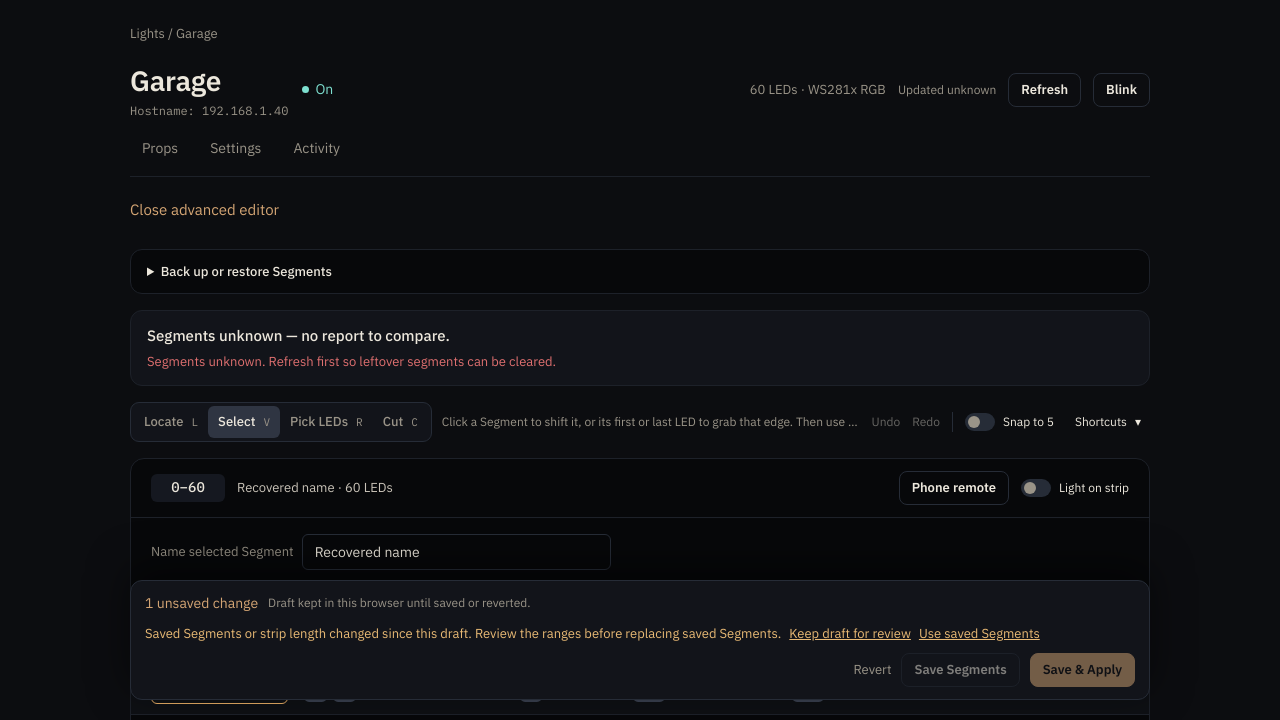
Scenario: reload-safe Segment drafts › shows a stale draft without letting Save or Apply write before review
Expected: the text "Saved Segments or strip length changed since this draft" is shown, [145,624,781,642]
Expected: the button "Save Segments" is disabled, [902,653,1020,687]
Click the button "Use saved Segments" at (979, 633), box [919,624,1040,643]
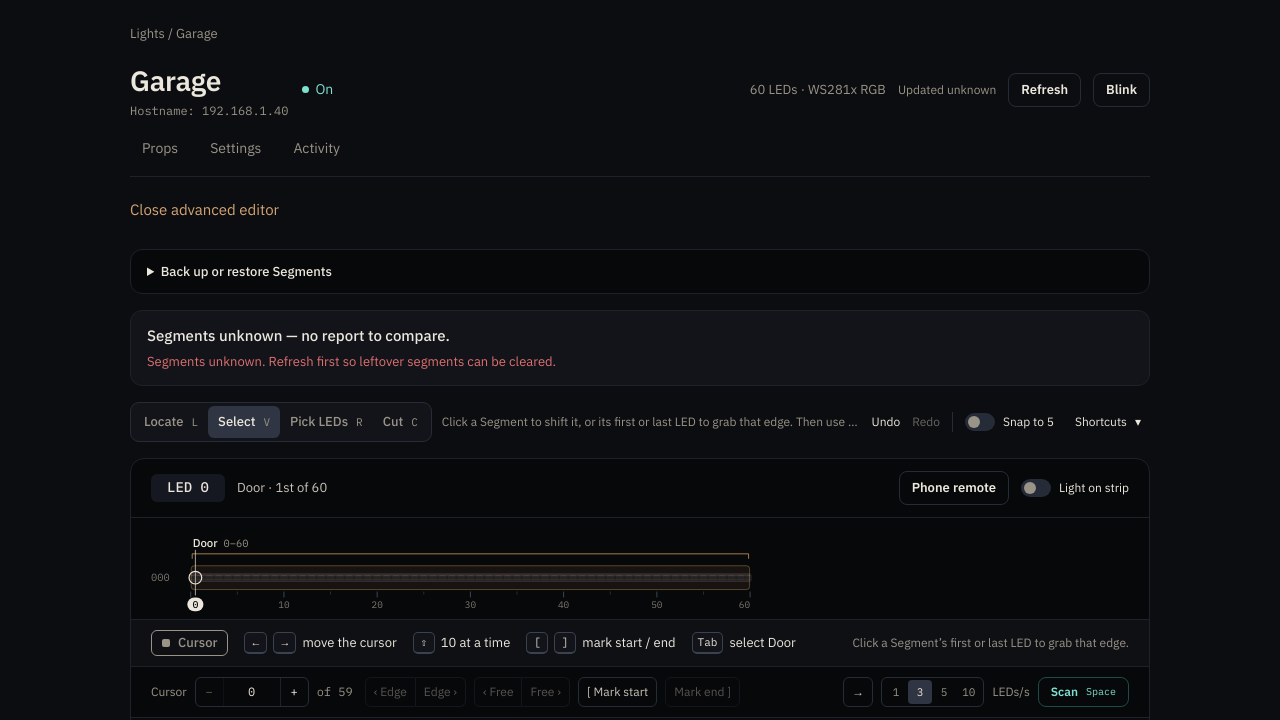
Now the text "Saved Segments or strip length changed since this draft" is gone
Now the button "Save Segments" is gone
